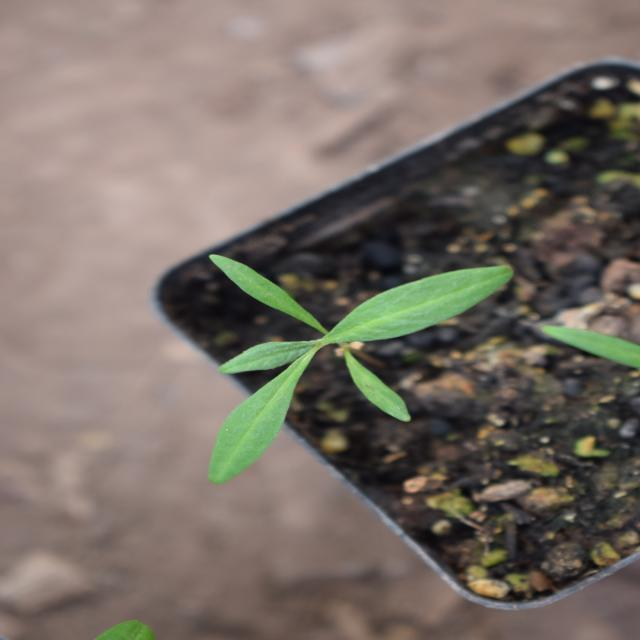white_smart_weed: (141, 179, 406, 518)
